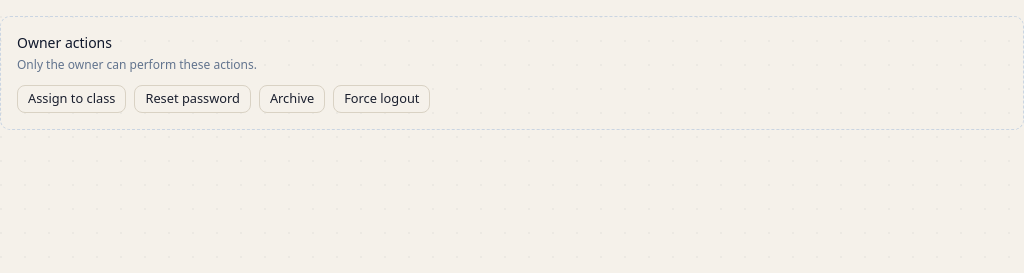
Test: OwnerActionsCard — AC15 in-flight guard › P1 the confirm control is disabled while the mutation is pending (no double-submit)
This screenshot has width=1024, height=273.
Click the button "Force logout" at (382, 99), box [333,85,430,113]
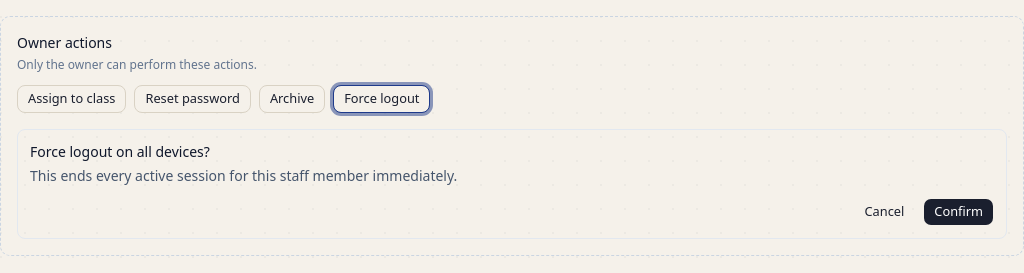
Click the button with test id "owner-action-confirm" at (959, 212), box [923,198,994,226]
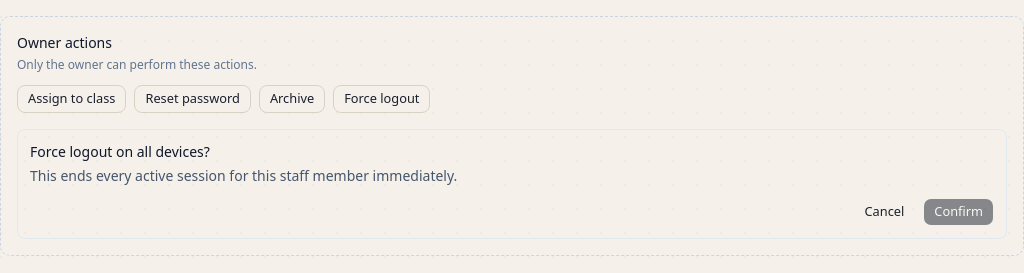
Expected: the button with test id "owner-action-confirm" is disabled, [923,198,994,226]
